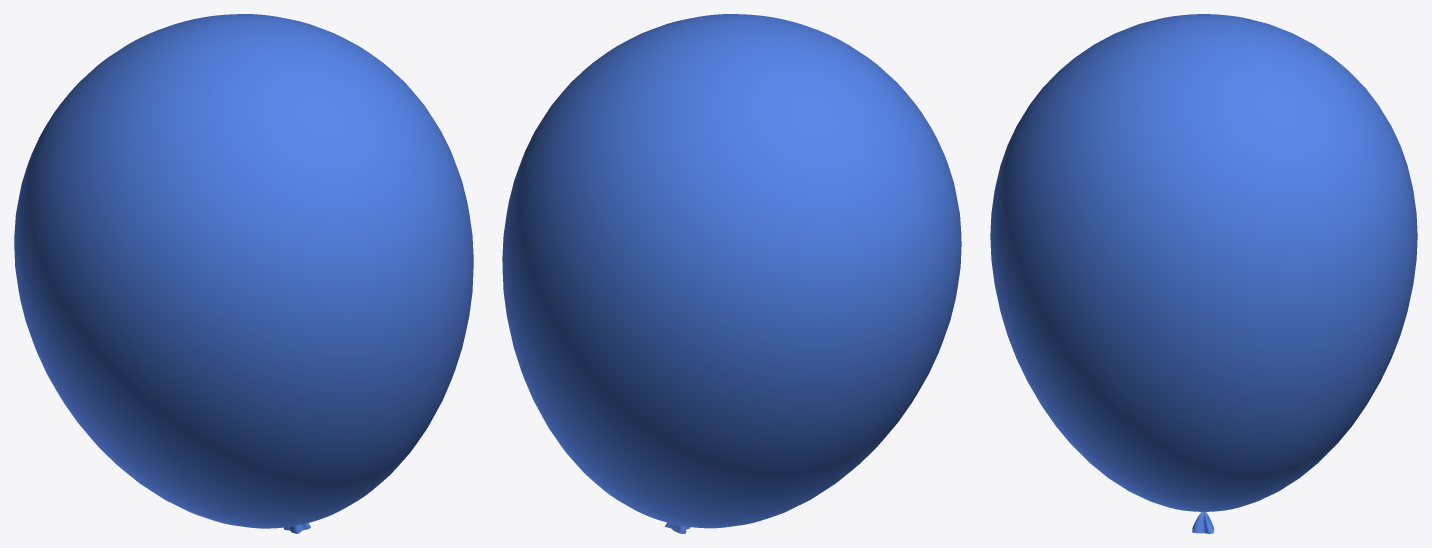
File: balloonblue.fbx
3 views of the same model, side by side, from view 1: azimuth 30°, elevation 25°; view 2: azimuth 150°, elevation 25°; view 3: azimuth 270°, elevation 25° (orthographic). The views are drawn at different scales.
Visible parts, largest first — view 1: Sphere.002; view 2: Sphere.002; view 3: Sphere.002.
Boxes of the visible parts, box(x1,y1,x2,y2) form: Sphere.002: box(14, 14, 473, 533); Sphere.002: box(502, 14, 961, 533); Sphere.002: box(990, 14, 1417, 533).
Bounding box in the file's own units: 193 × 234 × 192.
